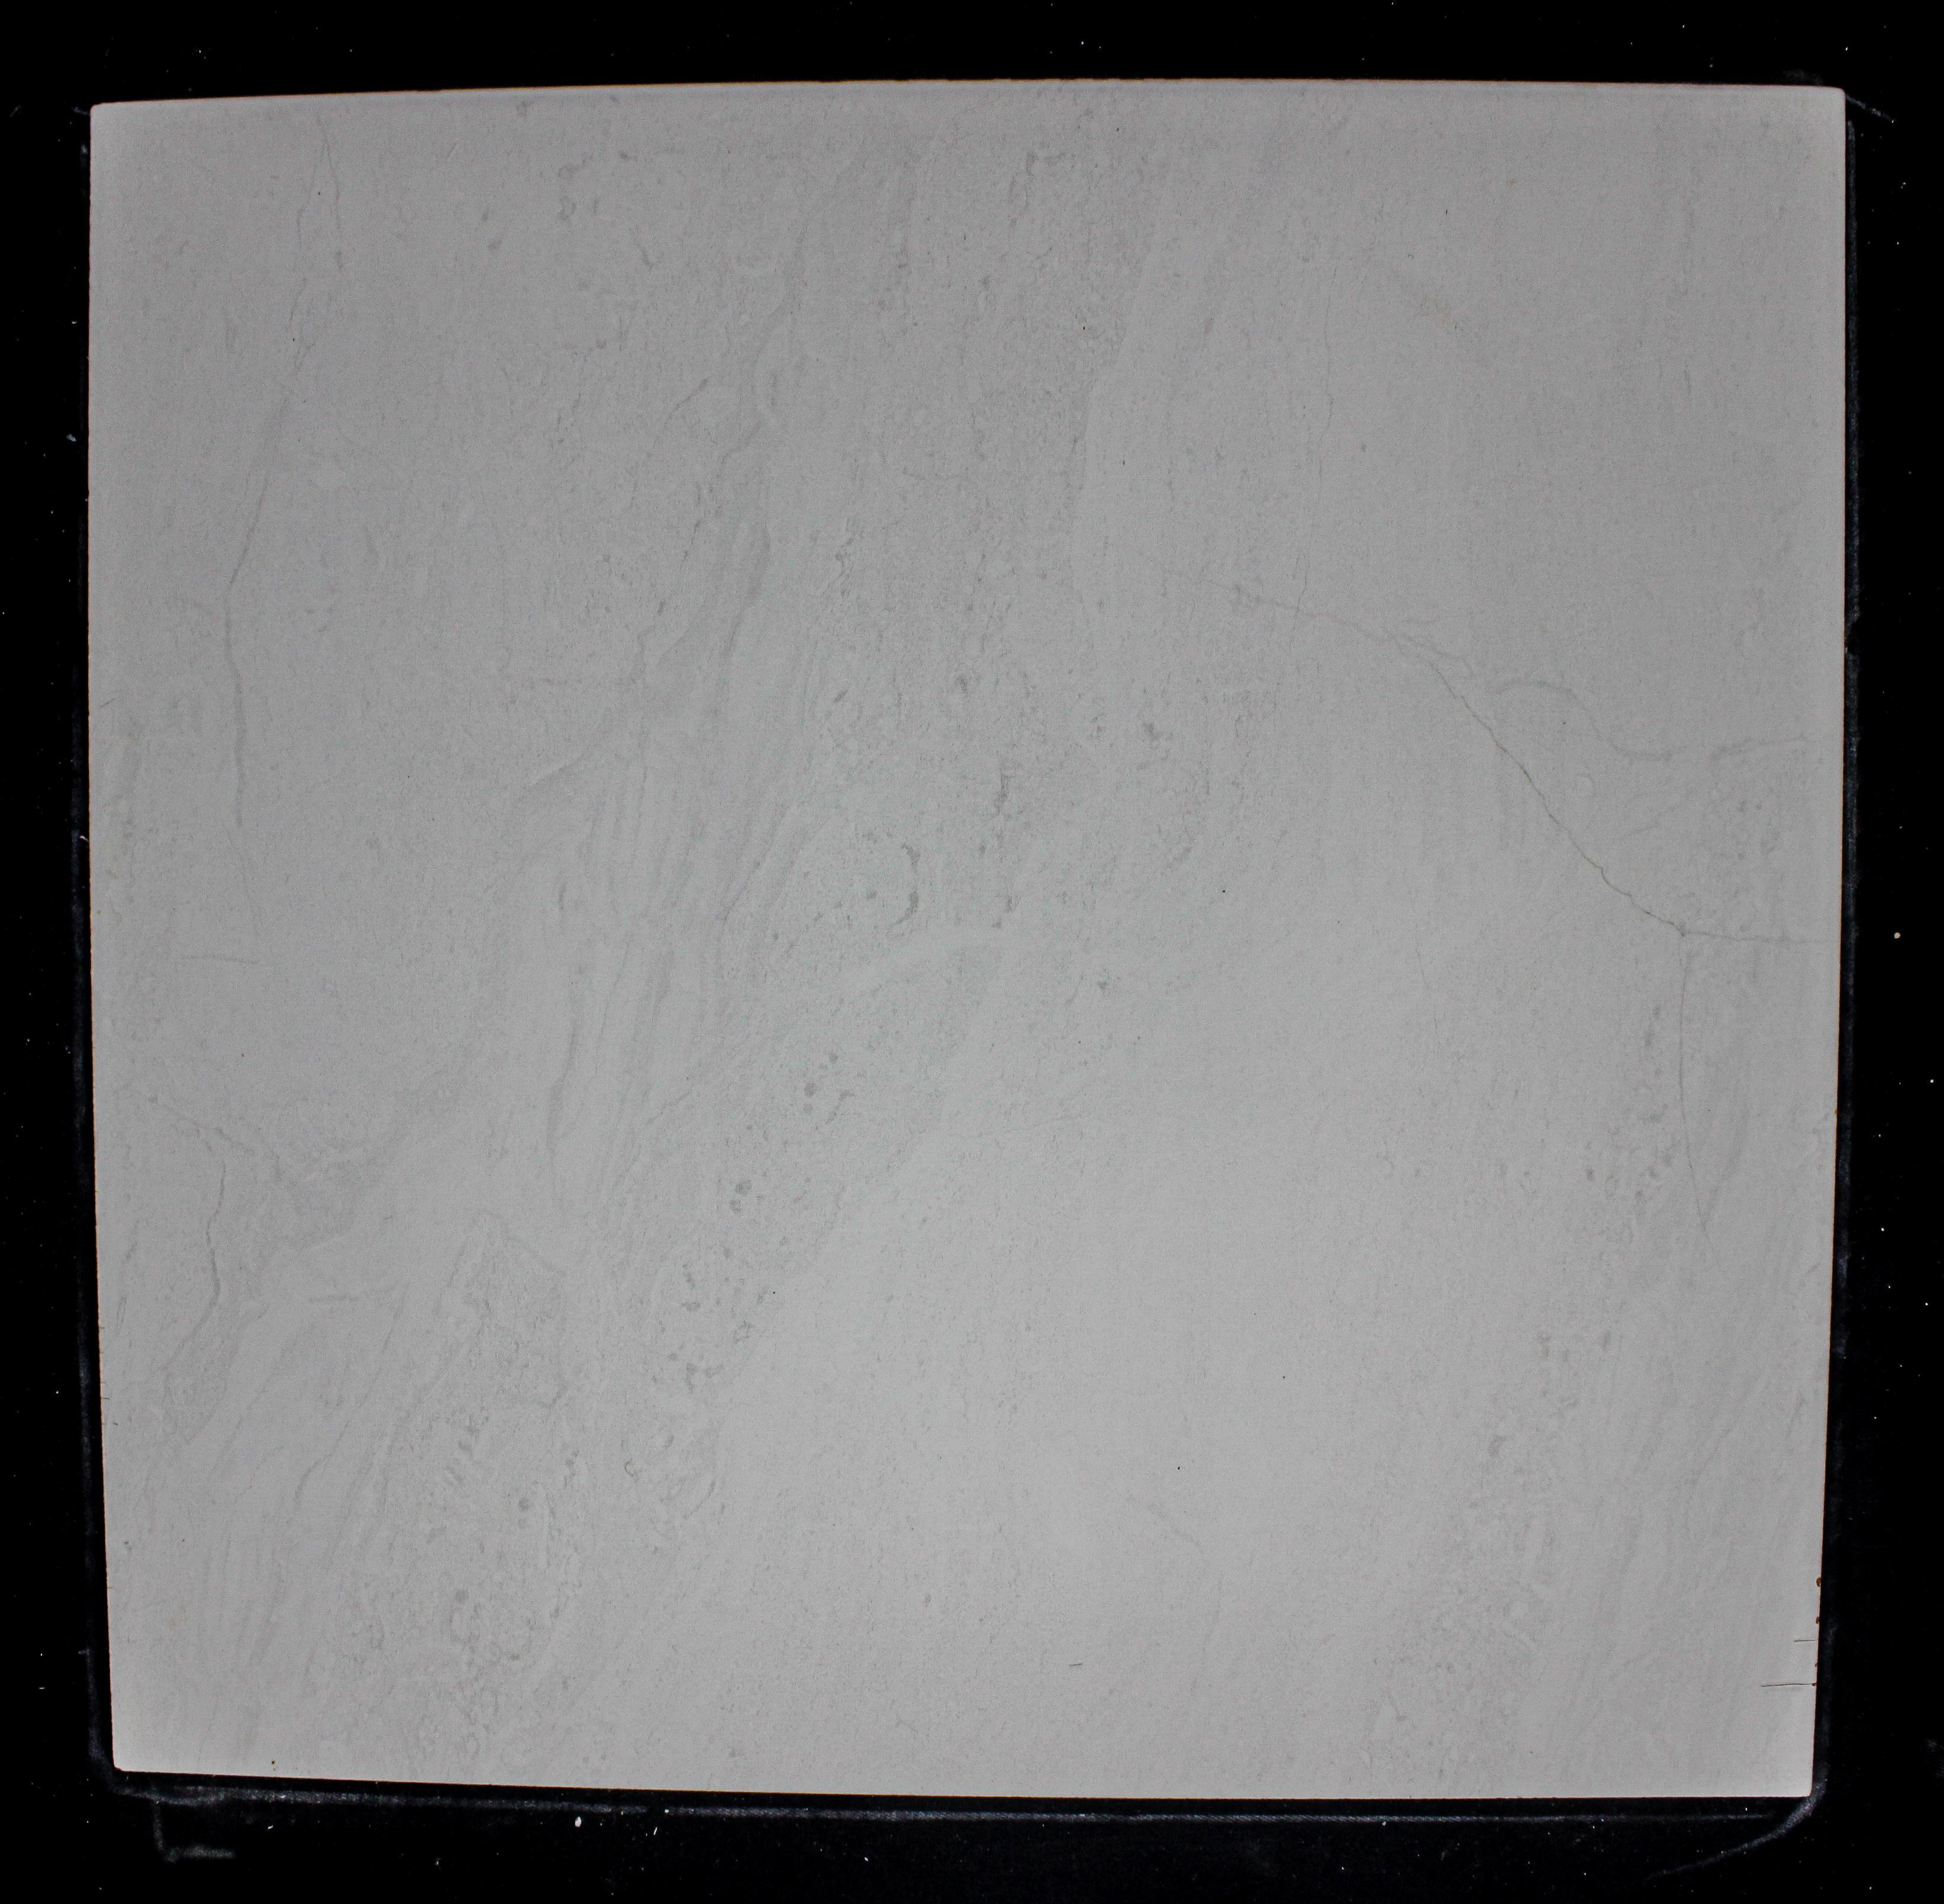line: (1431, 666, 1682, 933), (1759, 1681, 1818, 1690)
